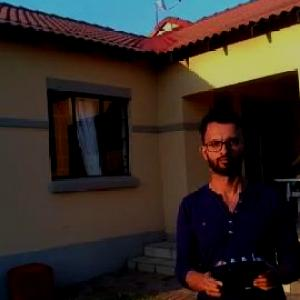follow: (172, 101, 300, 299)
